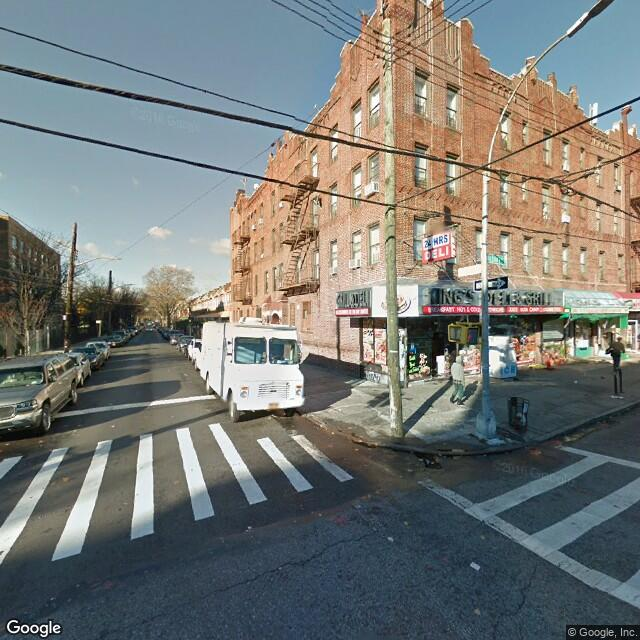litter: (421, 455, 441, 469), (467, 560, 482, 571), (389, 535, 394, 544), (247, 525, 254, 531), (572, 378, 578, 383)
